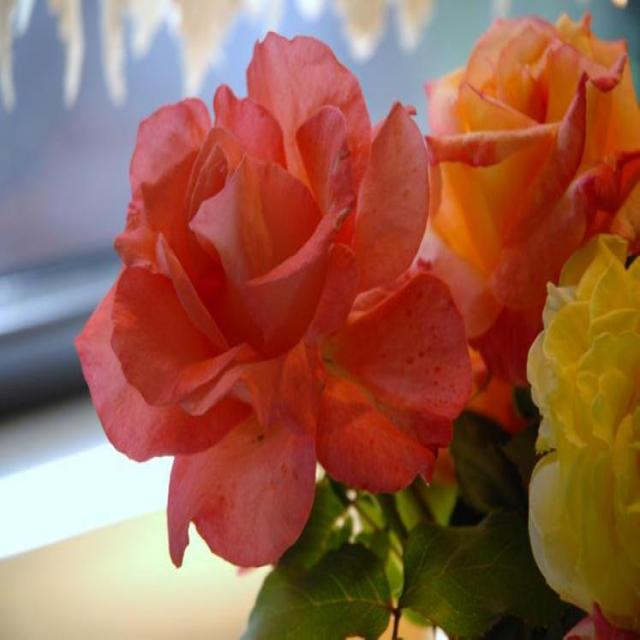rose: (86, 18, 466, 550), (423, 23, 640, 305)
